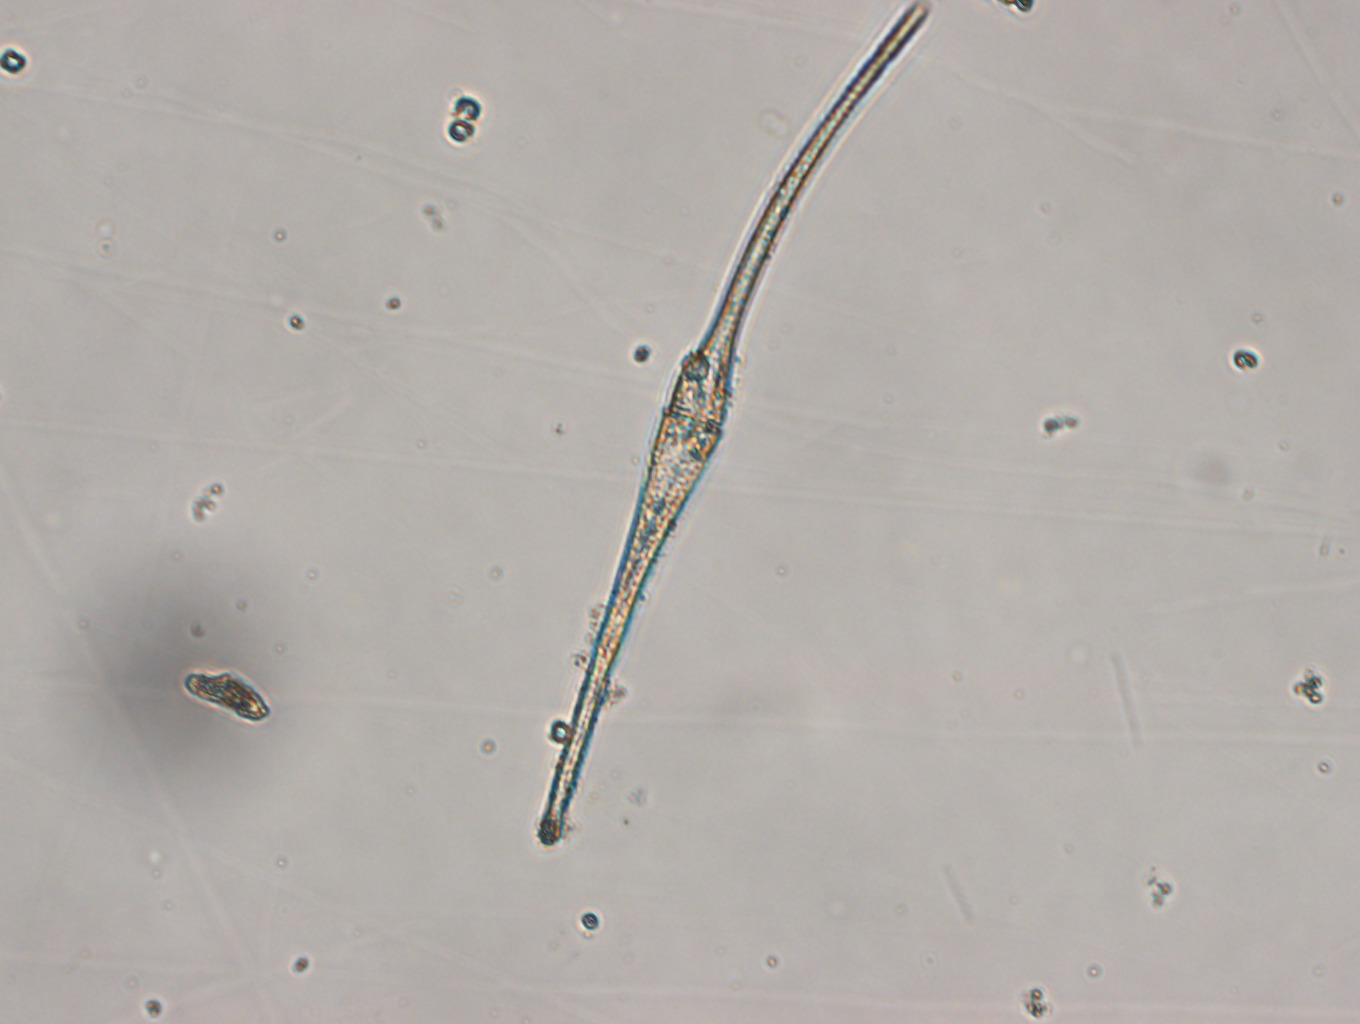ceratium fusus: (532, 1, 931, 852)
